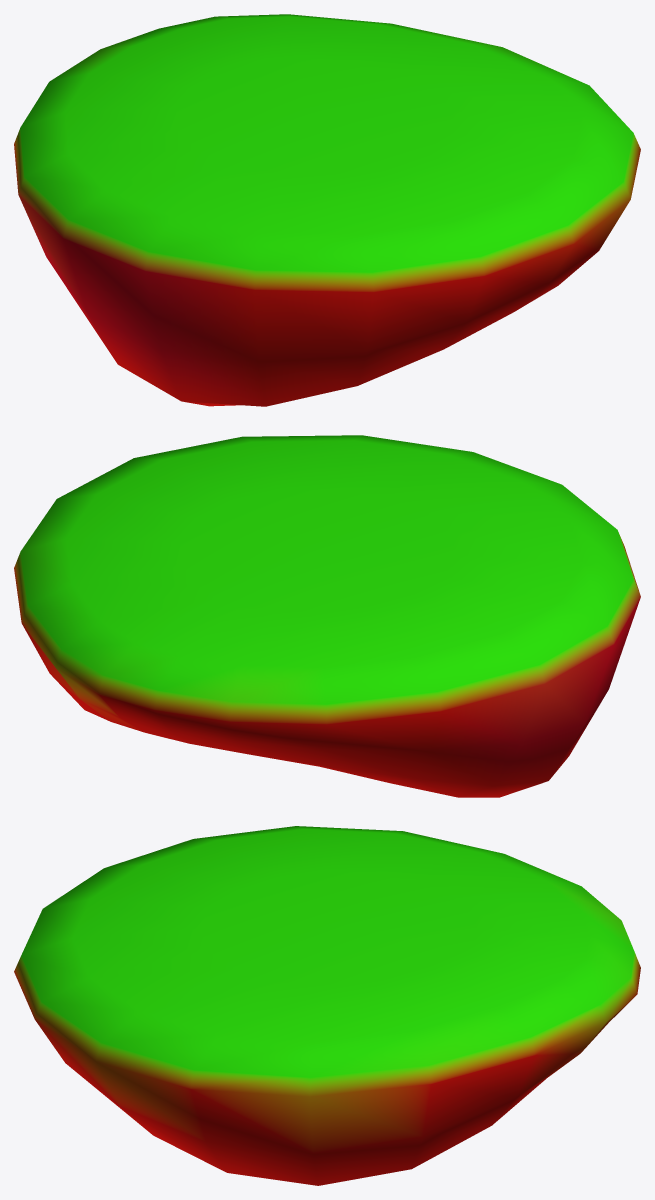
The model's file is Flat Island.fbx.
3 views of the same model, one above another, from view 1: azimuth 30°, elevation 25°; view 2: azimuth 150°, elevation 25°; view 3: azimuth 270°, elevation 25° (orthographic). The views are drawn at different scales.
Visible parts, largest first — view 1: Pillar Mesa; view 2: Pillar Mesa; view 3: Pillar Mesa.
Part boxes in pixels (box(x1,y1,x2,y2)): Pillar Mesa: box(14, 14, 640, 406); Pillar Mesa: box(14, 435, 640, 797); Pillar Mesa: box(14, 826, 640, 1185).
Size of the model in its own units: 758 by 299 by 781.
